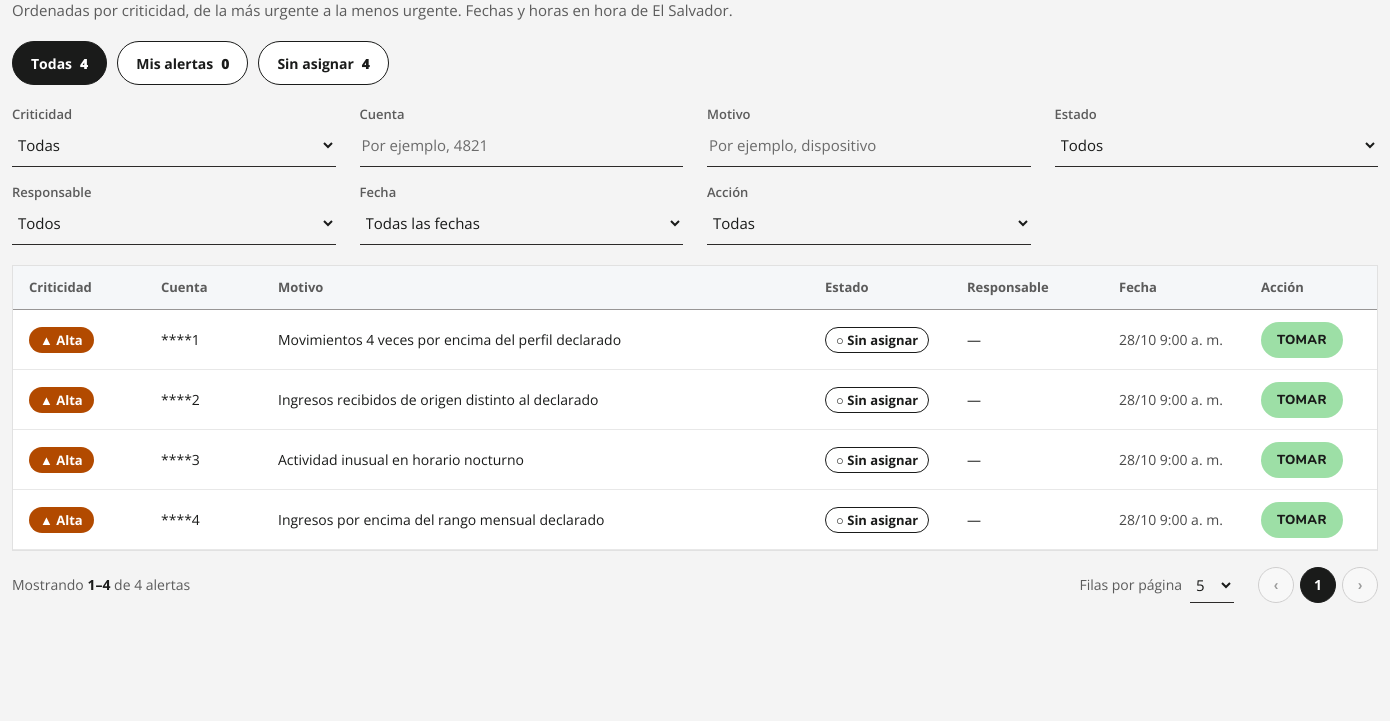
Test: vista previa de la alerta (VDI-138) › una alerta del seguimiento del perfil muestra qué se rompió, lo declarado, lo real, el límite y la tolerancia
The width and height of the screenshot is (1390, 721).
Step 1. Click the button "▲ Alta" next to "****4" → (61, 520), box 29,506 -> 94,532
(page scrolled)
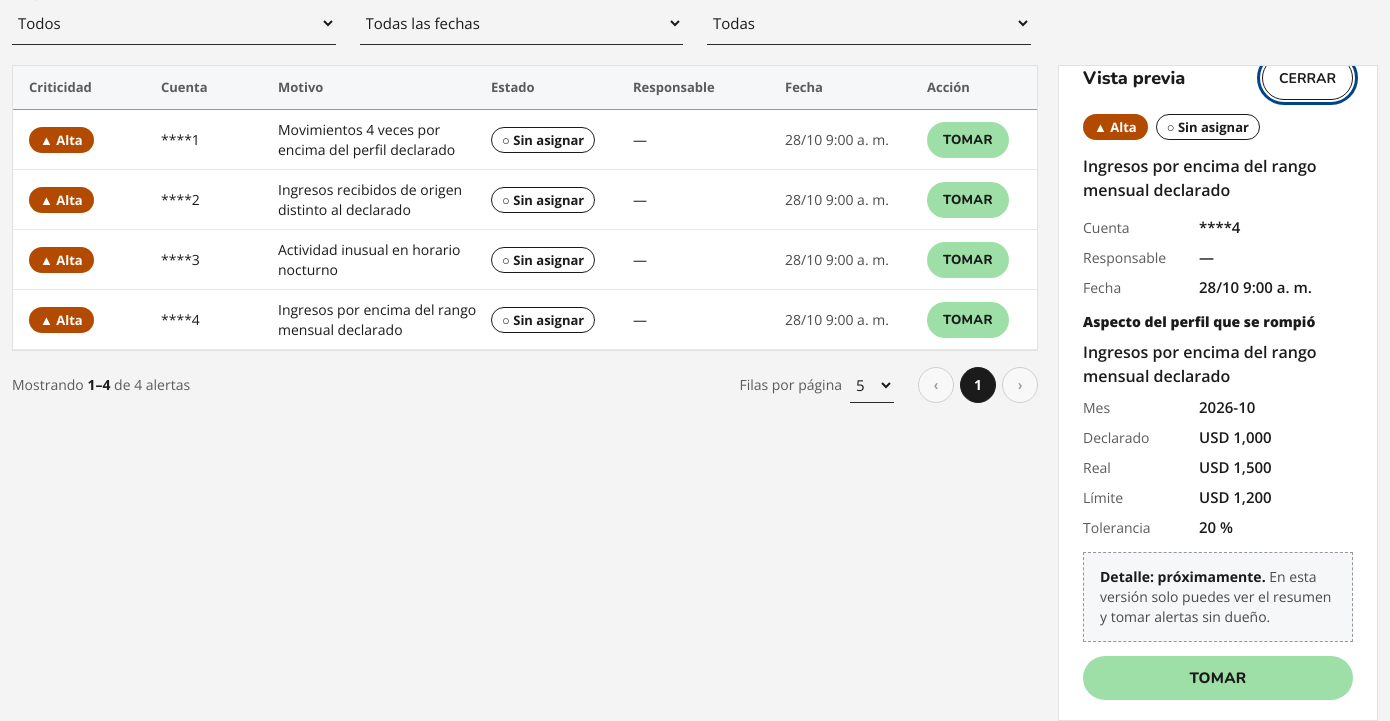
Expected: the text "Aspecto del perfil que se rompió" is shown, 1083,312 -> 1353,332
Expected: the 1st text "Ingresos por encima del rango mensual declarado" is shown, 1083,154 -> 1353,202
Expected: the text "USD 1,000" is shown, 1199,427 -> 1272,447
